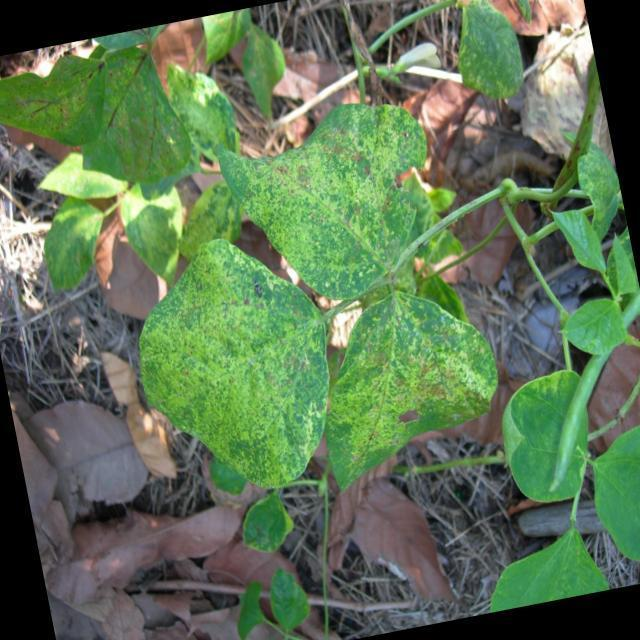Mosaic Virus: (109, 222, 351, 528), (211, 92, 435, 316), (312, 282, 510, 498)
